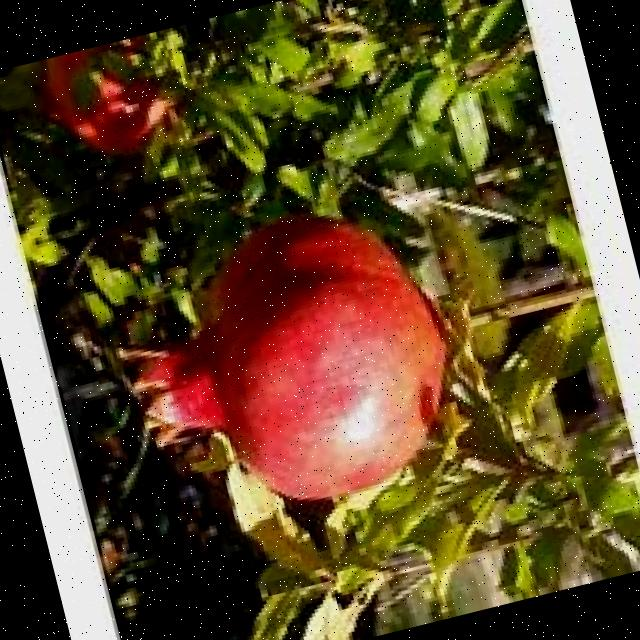Pomegranate: (98, 180, 487, 542)
